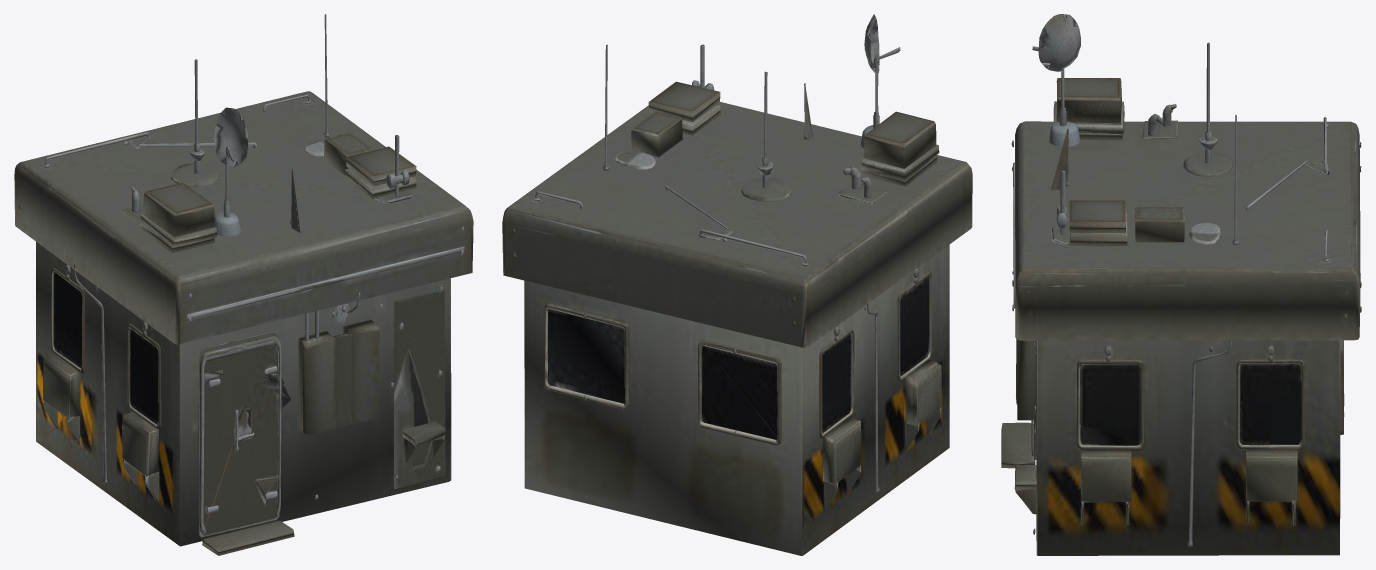
The model's file is command.glb.
3 renders of one model, left to right at view 1: azimuth 30°, elevation 25°; view 2: azimuth 150°, elevation 25°; view 3: azimuth 270°, elevation 25°, orthographic. The views are drawn at different scales.
Bounding box in the file's own units: 1 × 1.34 × 1.
Materials: 1 (1 with a texture image).
